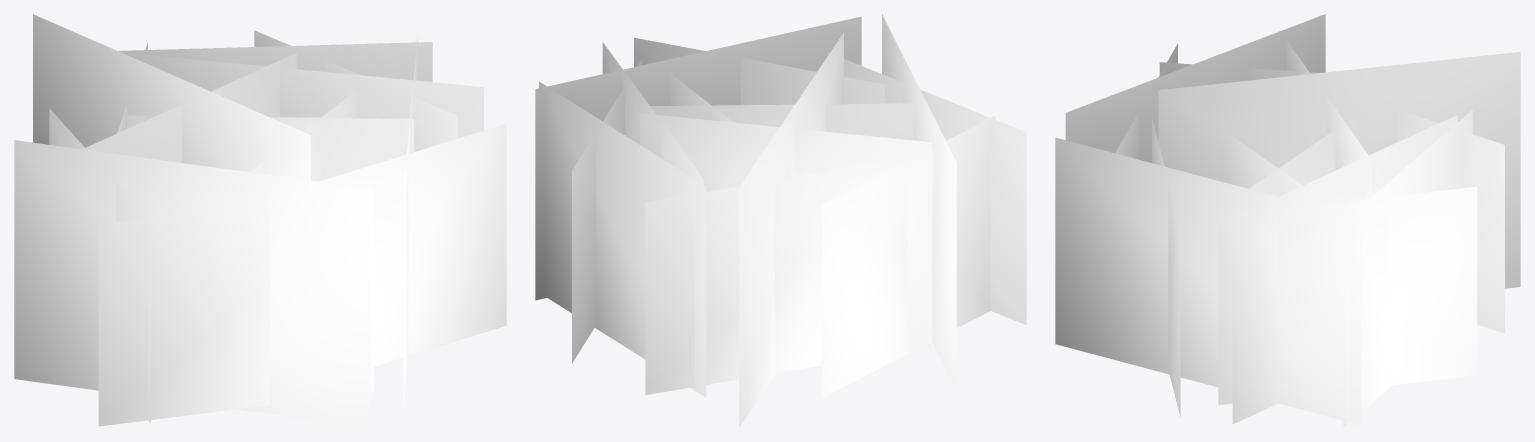
The model's file is SM_Env_Grass_Tall_Clump_03.glb.
3 renders of one model, left to right at view 1: azimuth 30°, elevation 25°; view 2: azimuth 150°, elevation 25°; view 3: azimuth 270°, elevation 25°, orthographic. The views are drawn at different scales.
Parts seen in each view (by area): view 1: SM_Env_Grass_Tall_Clump_03_LOD0; view 2: SM_Env_Grass_Tall_Clump_03_LOD0; view 3: SM_Env_Grass_Tall_Clump_03_LOD0.
Boxes of the visible parts, <box> form: SM_Env_Grass_Tall_Clump_03_LOD0: <box>14,14,506,427</box>; SM_Env_Grass_Tall_Clump_03_LOD0: <box>535,14,1026,427</box>; SM_Env_Grass_Tall_Clump_03_LOD0: <box>1055,14,1520,427</box>.
Size of what is drawn, in the model's own units: 1.72 by 0.9937 by 1.73.
1 material, 1 textured.
